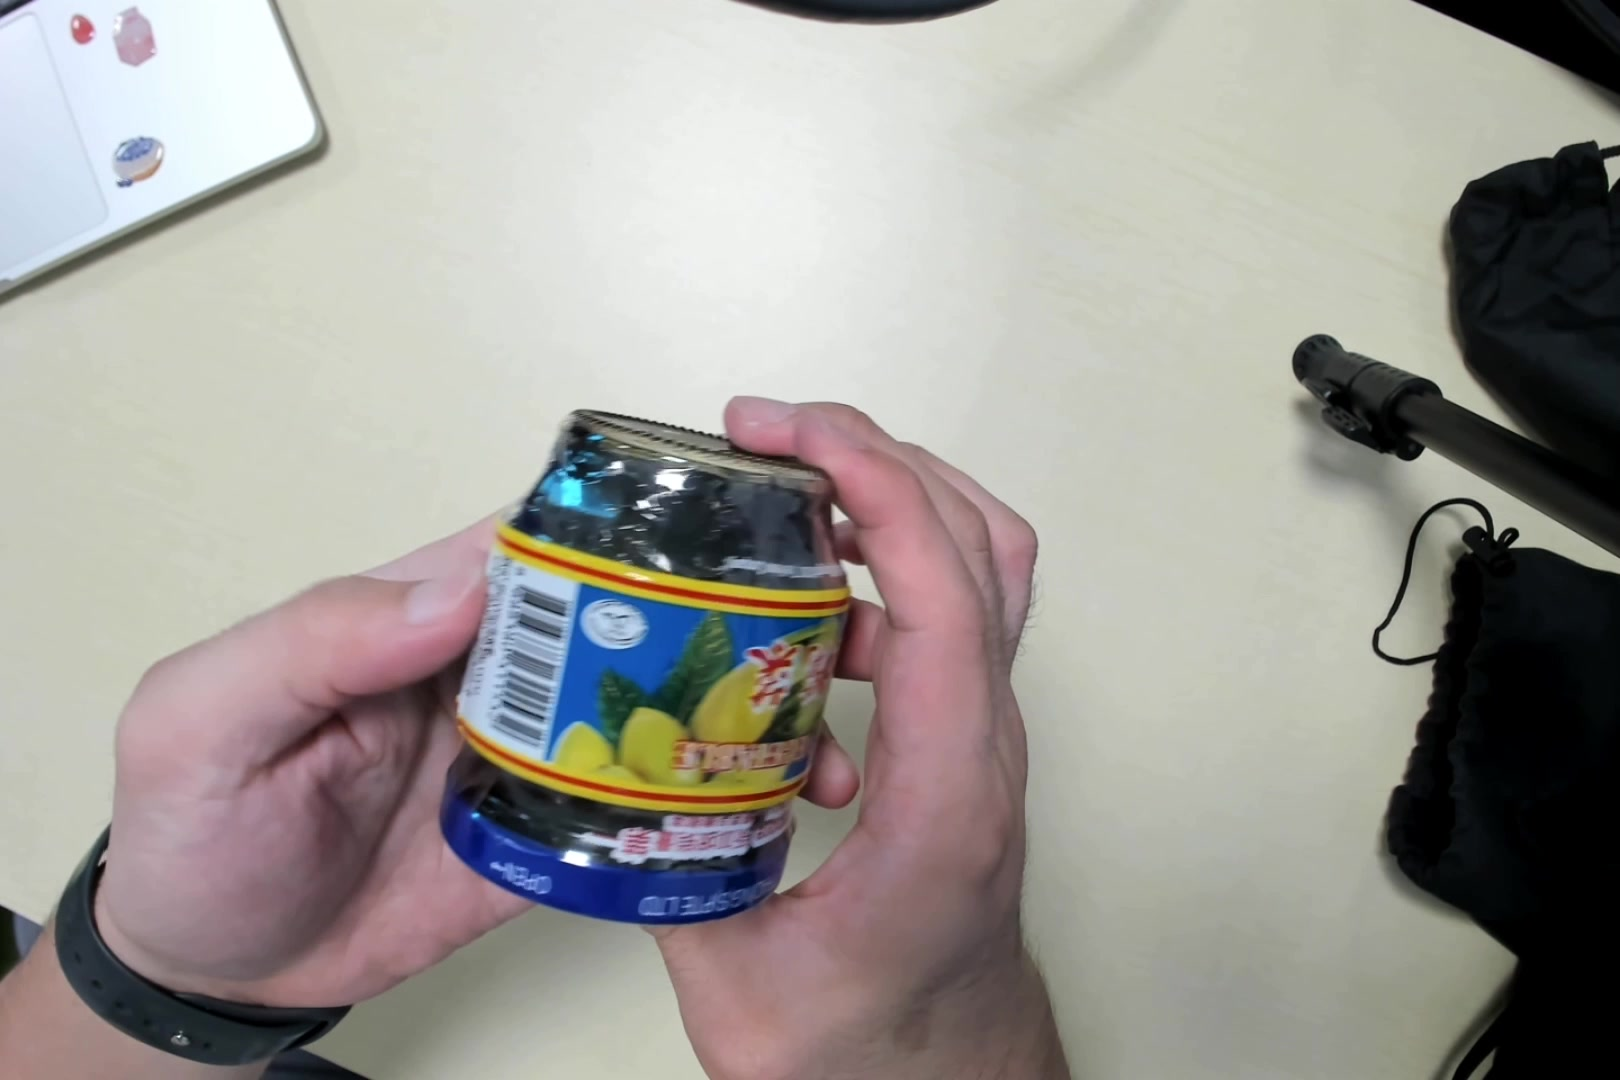CannedPickles_100-199g_NonHalal_NonHealthy: (440, 406, 855, 932)
